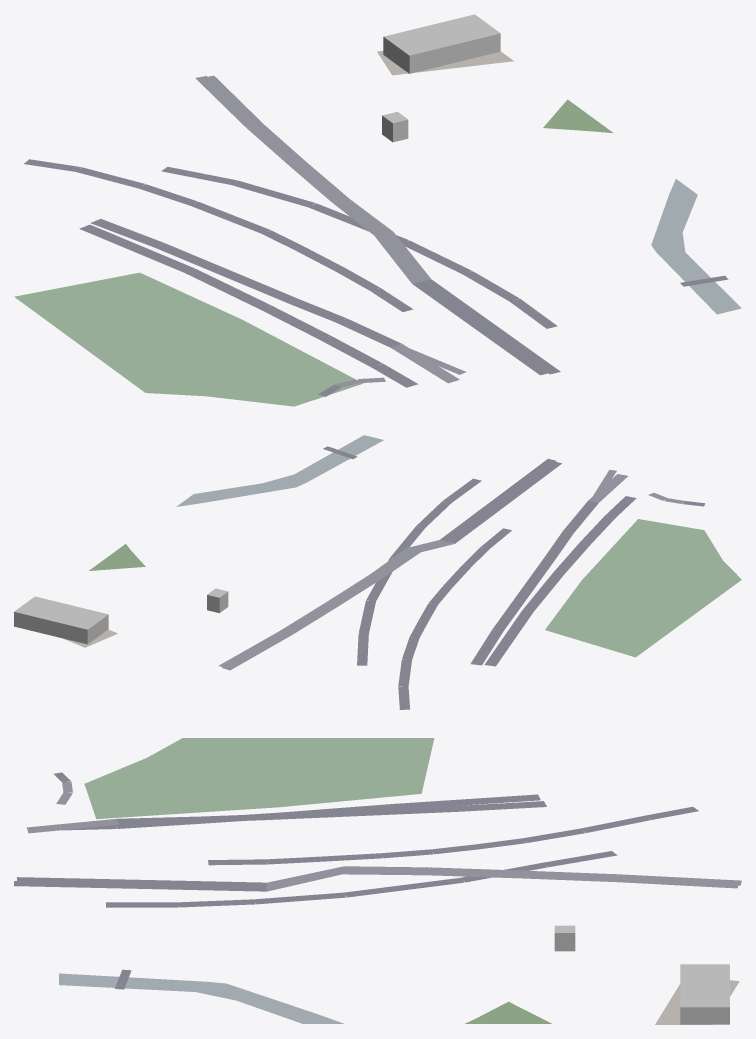
Rendered from 135_111_mid.glb.
3 views of the same model, one above another, from view 1: azimuth 30°, elevation 25°; view 2: azimuth 150°, elevation 25°; view 3: azimuth 270°, elevation 25° (orthographic). The views are drawn at different scales.
Bounding box in the file's own units: 500 × 16.26 × 534.
